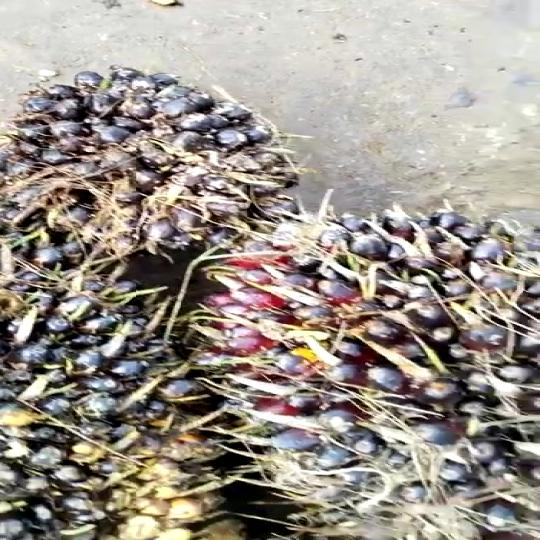mentah: (154, 222, 540, 539), (19, 63, 285, 268)
